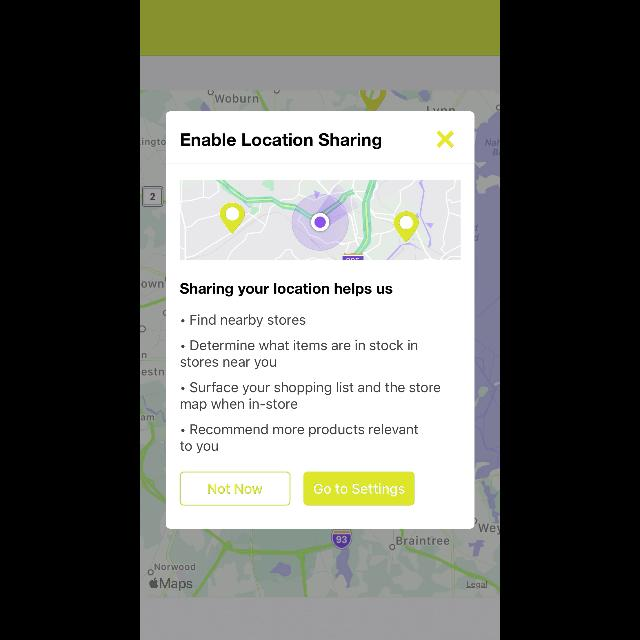icon: (436, 130, 454, 148)
image: (180, 180, 460, 260)
panel: (166, 111, 474, 528)
text: (180, 382, 440, 412), (180, 424, 418, 454), (180, 339, 418, 368), (181, 133, 381, 149), (180, 284, 392, 296), (181, 314, 305, 328)
textbutton: (180, 471, 290, 505), (304, 471, 414, 505)
